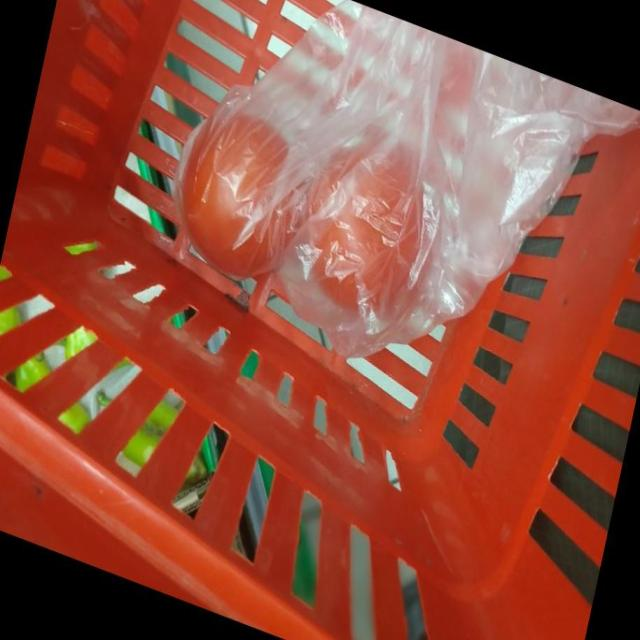Tomatoes: (304, 147, 421, 312), (176, 111, 288, 279)
